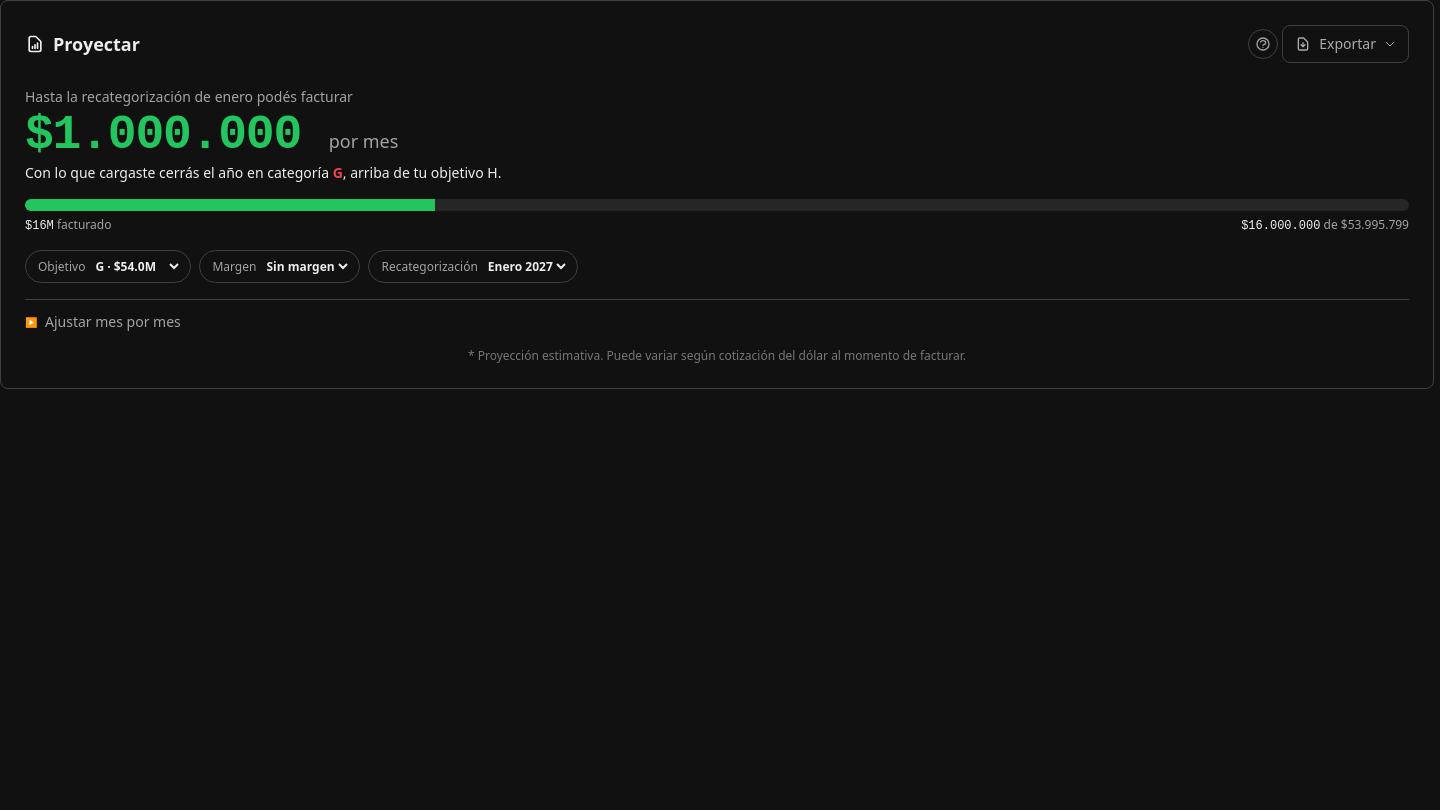
Scenario: ProjectionPanel · ruido y referencias › el aviso de exceso no dice 'tope', que es otra referencia
Click the heading "▶ Ajustar mes por mes" at (103,322), box [25, 312, 181, 331]
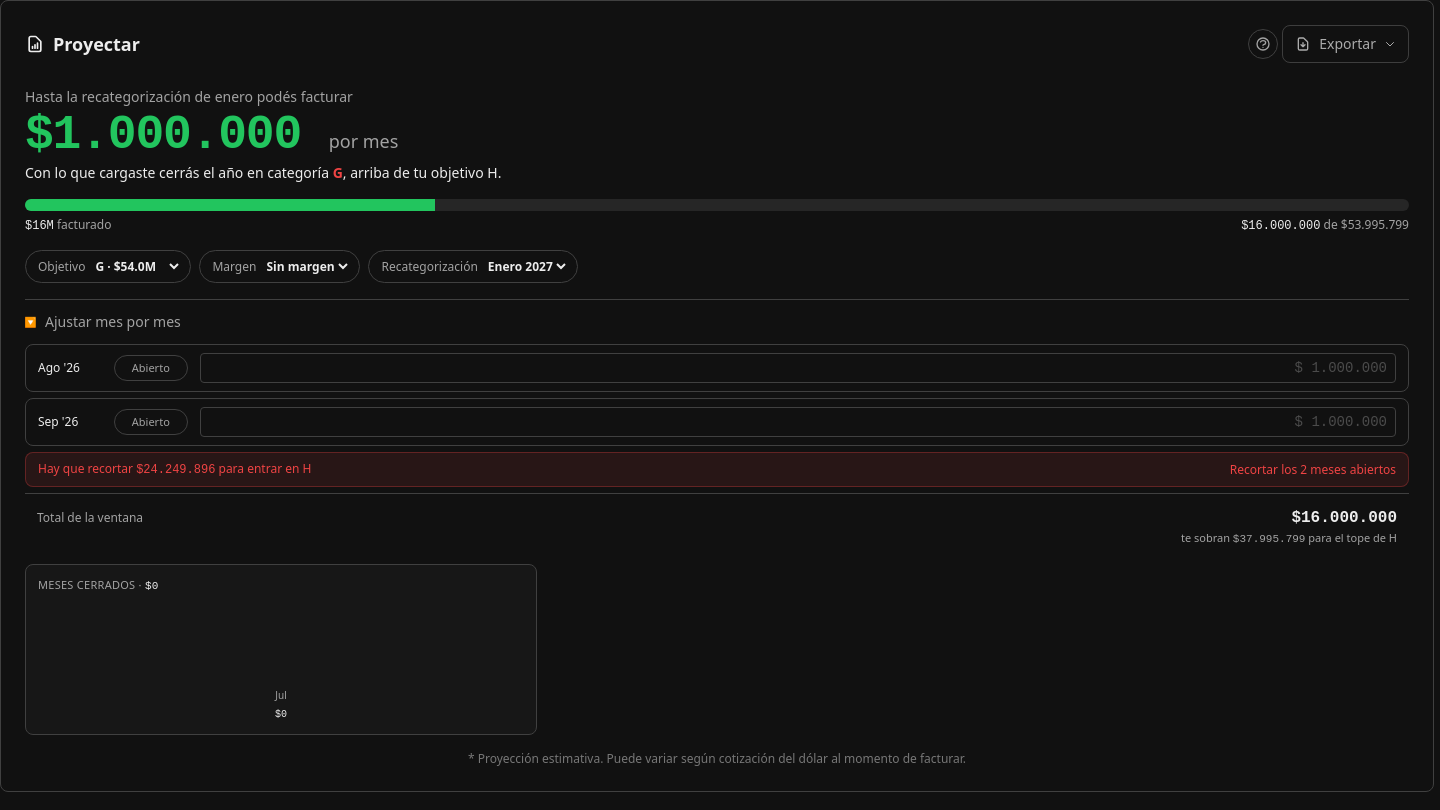
Expected: the element with test id "te-pasas" does not show "tope", [25, 452, 1409, 487]
Now the element with test id "te-pasas" shows "24.249.896", box [143, 463, 215, 477]
Now the element with test id "te-pasas" shows "recortar", box [1230, 462, 1396, 478]
